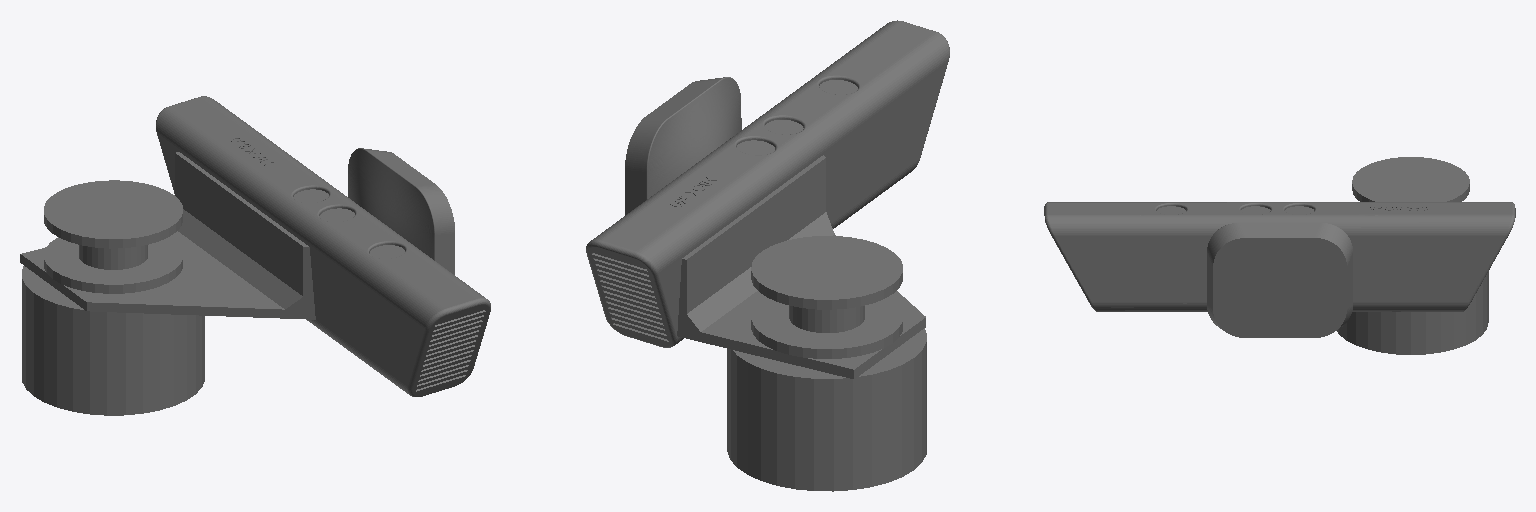
URDF robot description (kinect):
<?xml version="1.0"?>
<robot name="kinect">

 <!-- FTS LINK -->
 <link name="fts_link">
      <inertial>
          <mass value="1.2" />
          <origin xyz="0 0 0" />
      	  <inertia  ixx="1.0" ixy="0.0"  ixz="0.0"  iyy="1.0"  iyz="0.0"  izz="1.0" />
      </inertial>

      <visual>
          <origin xyz="0.0 0.0 0.0" rpy="0.0 0.0 0.0" />
          <geometry>
             <mesh filename="package://kinect_description/meshes/fts.stl" scale="1 1 1"/>
          </geometry>
          <material name="grey">
		<color rgba="0.5 0.5 0.5 1"/>
      	  </material>
      </visual>

      <collision>
          <origin xyz="0.0 0.0 0.0" rpy="0.0 0.0 0.0" />
          <geometry>
             <mesh filename="package://kinect_description/meshes/fts.stl" scale="1 1 1"/>
         </geometry>
     </collision>
  </link>
  
 <!-- KIN ADAPTER LINK -->
 <link name="kin_adapter_link">
      <inertial>
          <mass value="1.2" />
          <origin xyz="0 0 0" />
      	  <inertia  ixx="1.0" ixy="0.0"  ixz="0.0"  iyy="1.0"  iyz="0.0"  izz="1.0" />
      </inertial>

      <visual>
          <origin xyz="0.0 0.0 0.0" rpy="0.0 0.0 0.0" />
          <geometry>
             <mesh filename="package://kinect_description/meshes/kin_adapter.stl" scale="0.001 0.001 0.001"/>
          </geometry>
          <material name="grey">
		<color rgba="0.5 0.5 0.5 1"/>
      	  </material>
      </visual>

      <collision>
          <origin xyz="0.0 0.0 0.0" rpy="0.0 0.0 0.0" />
          <geometry>
             <mesh filename="package://kinect_description/meshes/kin_adapter.stl" scale="0.001 0.001 0.001"/>
         </geometry>
     </collision>
  </link>
  
 <!-- KINECT LINK -->
 <link name="kinect_link">
      <inertial>
          <mass value="1.2" />
          <origin xyz="0 0 0" />
      	  <inertia  ixx="1.0" ixy="0.0"  ixz="0.0"  iyy="1.0"  iyz="0.0"  izz="1.0" />
      </inertial>

      <visual>
          <origin xyz="0.0 0.0 0.0" rpy="0.0 0.0 0.0" />
          <geometry>
             <mesh filename="package://kinect_description/meshes/kinect.stl" scale="1 1 1"/>
          </geometry>
          <material name="grey">
		<color rgba="0.5 0.5 0.5 1"/>
      	  </material>
      </visual>

      <collision>
          <origin xyz="0.0 0.0 0.0" rpy="0.0 0.0 0.0" />
          <geometry>
             <mesh filename="package://kinect_description/meshes/kinect.stl" scale="1 1 1"/>
         </geometry>
     </collision>
  </link>
  
 <!-- GRIPPER ADAPTER LINK -->
 <link name="gripper_adapter_link">
      <inertial>
          <mass value="1.2" />
          <origin xyz="0 0 0" />
      	  <inertia  ixx="1.0" ixy="0.0"  ixz="0.0"  iyy="1.0"  iyz="0.0"  izz="1.0" />
      </inertial>

      <visual>
          <origin xyz="0.0 0.0 0.0" rpy="0.0 0.0 0.0" />
          <geometry>
             <mesh filename="package://kinect_description/meshes/gripper_adapter.stl" scale="1 1 1"/>
          </geometry>
          <material name="grey">
		<color rgba="0.5 0.5 0.5 1"/>
      	  </material>
      </visual>

      <collision>
          <origin xyz="0.0 0.0 0.0" rpy="0.0 0.0 0.0" />
          <geometry>
             <mesh filename="package://kinect_description/meshes/gripper_adapter.stl" scale="1 1 1"/>
         </geometry>
     </collision>
  </link>
  
  <!-- JOINTS -->
  <joint name="fts_joint_kin_adapter" type="fixed">
     <origin xyz="0 0 0.057" rpy="0 0 0" />
     <parent link="fts_link"/>
     <child link="kin_adapter_link" />
  </joint>
  
  <joint name="kin_adapter_joint_kinect" type="fixed">
     <origin xyz="0.06 0.034 0.0" rpy="-1.57 0 -1.57" />
     <parent link="kin_adapter_link"/>
     <child link="kinect_link" />
  </joint>
  
  <joint name="kin_adapte_joint_gripper_adapter" type="fixed">
     <origin xyz="0 0 0.02" rpy="0 0 0" />
     <parent link="kin_adapter_link"/>
     <child link="gripper_adapter_link" />
  </joint>

</robot>

--- Render facts (derived) ---
Views: 3 orthographic renders of the robot side by side, from view 1: azimuth 30°, elevation 25°; view 2: azimuth 150°, elevation 25°; view 3: azimuth 270°, elevation 25°.
Model kinect with 4 links and 3 joints (3 fixed), rooted at fts_link, posed all joints at 0.
Visible links, largest first — view 1: kinect_link, fts_link, kin_adapter_link, gripper_adapter_link; view 2: kinect_link, fts_link, gripper_adapter_link, kin_adapter_link; view 3: kinect_link, fts_link, gripper_adapter_link.
Boxes of the visible links, bbox=[...] form: kinect_link: bbox=[156, 96, 490, 396]; fts_link: bbox=[22, 247, 204, 415]; kin_adapter_link: bbox=[20, 152, 315, 319]; gripper_adapter_link: bbox=[44, 180, 182, 293]; kinect_link: bbox=[586, 20, 949, 347]; fts_link: bbox=[727, 328, 926, 491]; gripper_adapter_link: bbox=[751, 236, 902, 358]; kin_adapter_link: bbox=[677, 155, 925, 378]; kinect_link: bbox=[1044, 202, 1515, 337]; fts_link: bbox=[1337, 271, 1488, 354]; gripper_adapter_link: bbox=[1352, 157, 1469, 201].
Size in the robot's own frame: 0.1754 by 0.2794 by 0.1192 metres.
4 mesh visuals loaded from 4 distinct referenced files (4 binary STL).